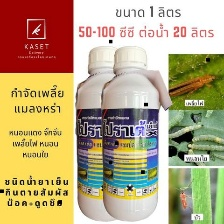insecticide: (99, 43, 162, 224), (74, 43, 137, 224)
